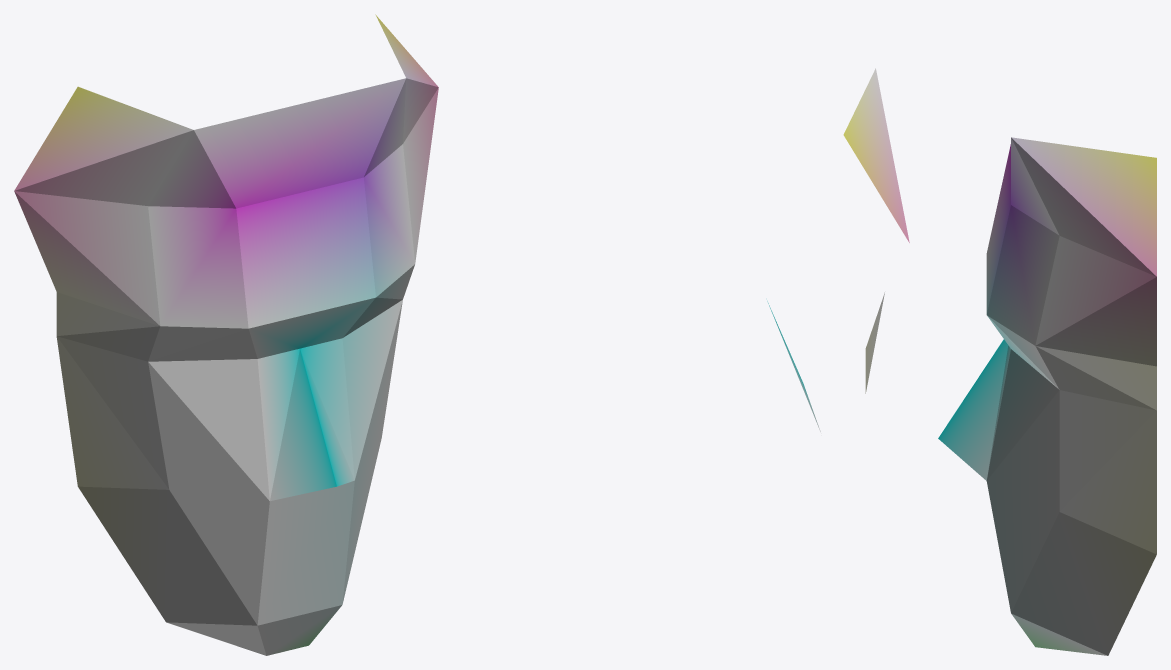
The picture shows the model from 3 angles, left to right: view 1: azimuth 30°, elevation 25°; view 2: azimuth 150°, elevation 25°; view 3: azimuth 270°, elevation 25°; orthographic projection. The views are drawn at different scales.
Parts seen in each view (by area): view 1: model_13E9; view 2: model_13E9; view 3: model_13E9.
Boxes of the visible parts, x1=… form: model_13E9: x1=14, y1=14, x2=438, y2=655; model_13E9: x1=767, y1=68, x2=909, y2=431; model_13E9: x1=938, y1=137, x2=1156, y2=655.
Size of the model in its own units: 20 by 25 by 9.
